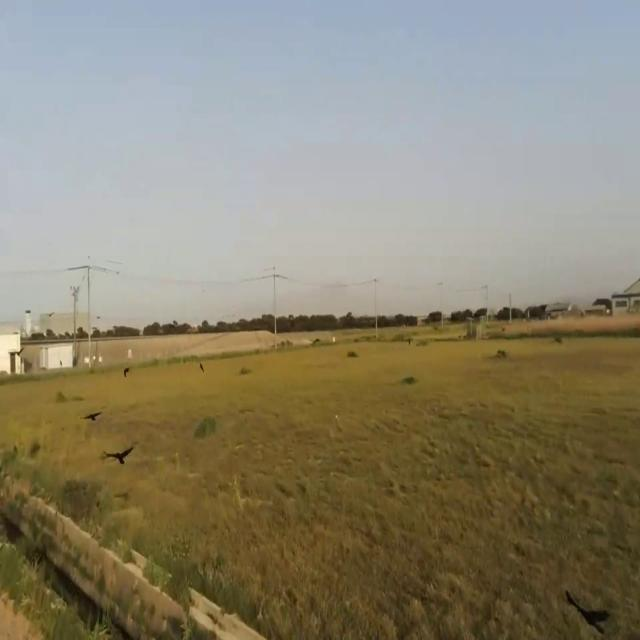bird: (566, 581, 609, 639), (105, 437, 135, 473), (85, 404, 102, 428)
